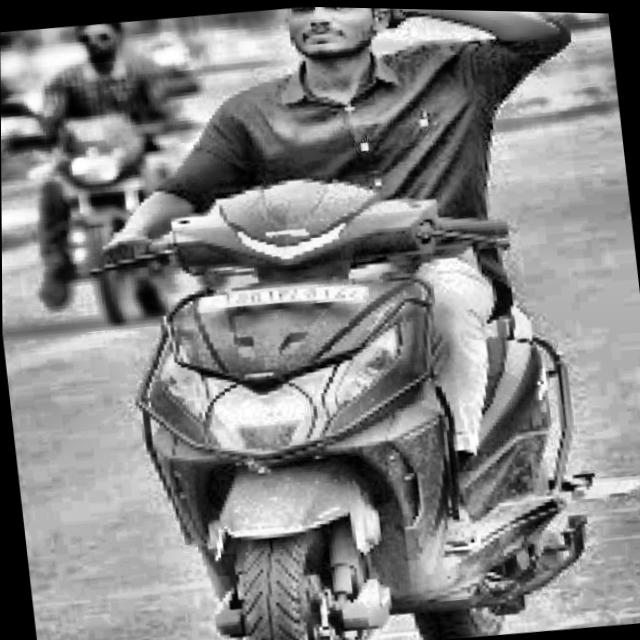motorcycle: (73, 127, 640, 640)
